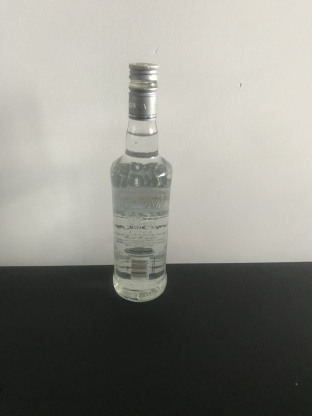nakretka: (127, 60, 159, 120)
